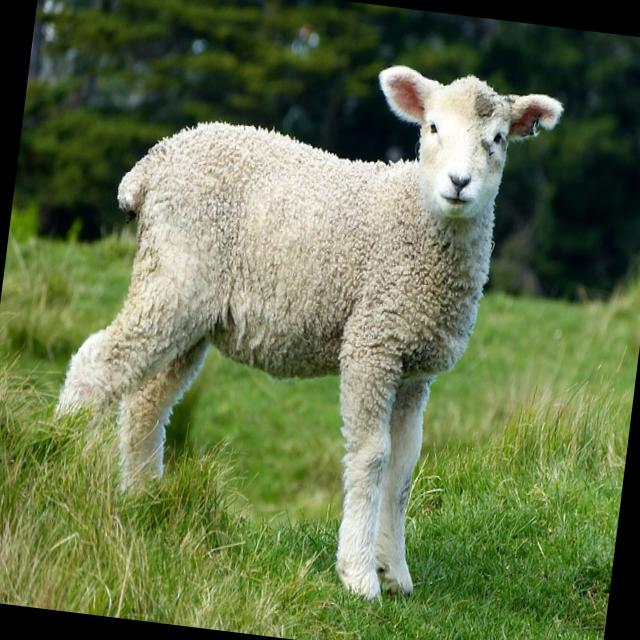animal: (34, 24, 568, 620)
